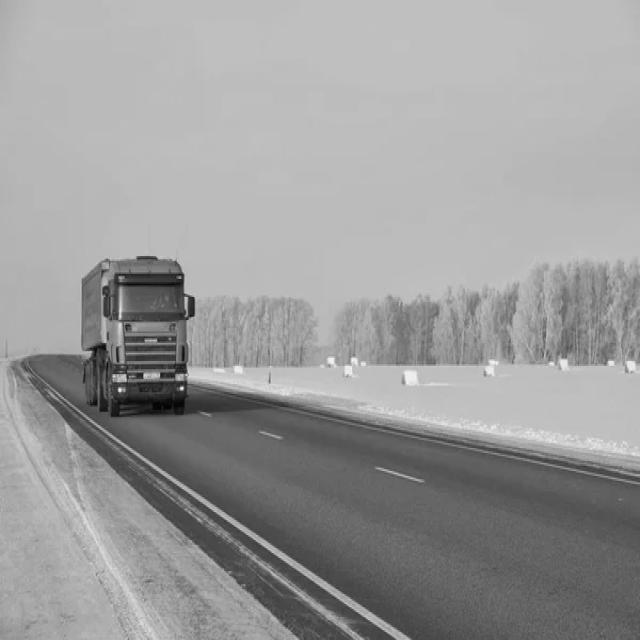Truck: (81, 254, 195, 416)
